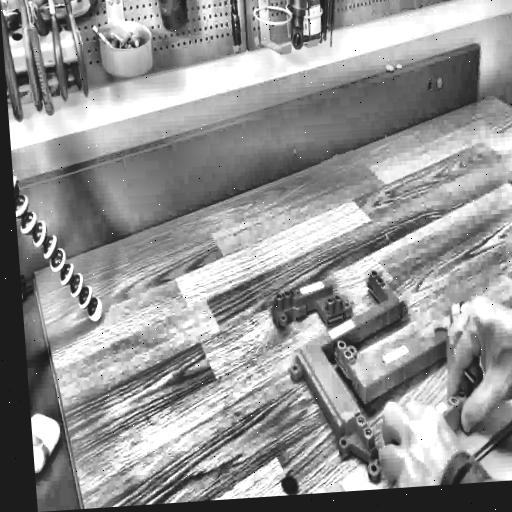busbar: (265, 243, 511, 493)
